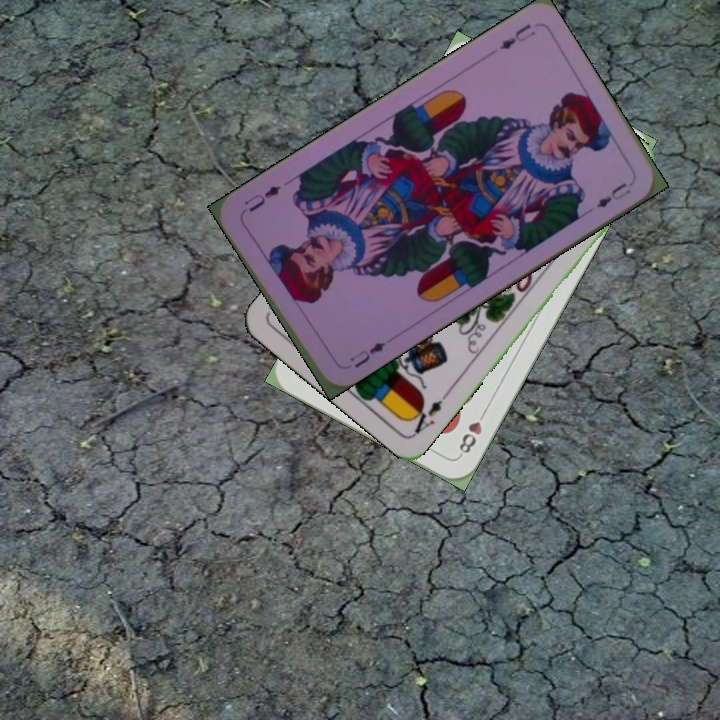EA: (405, 387, 452, 438)
EU: (345, 338, 388, 372), (495, 19, 538, 52)
H8: (454, 405, 490, 459)
